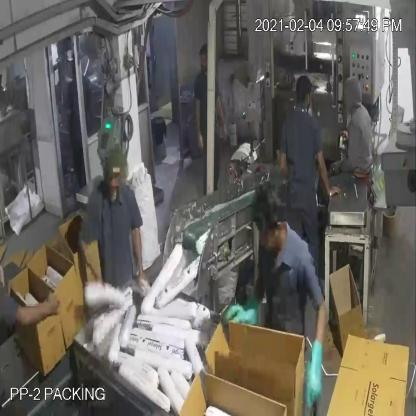glove: (300, 289, 331, 412), (217, 268, 266, 336)
no_glove: (8, 278, 68, 342), (77, 223, 113, 302), (130, 204, 153, 300), (314, 140, 344, 207), (209, 84, 228, 148), (191, 96, 208, 154), (276, 144, 290, 182)
